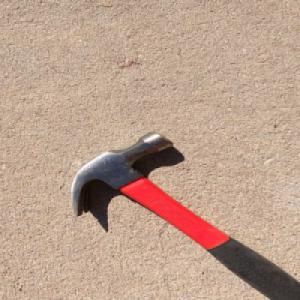Hammer: (68, 130, 299, 300)
